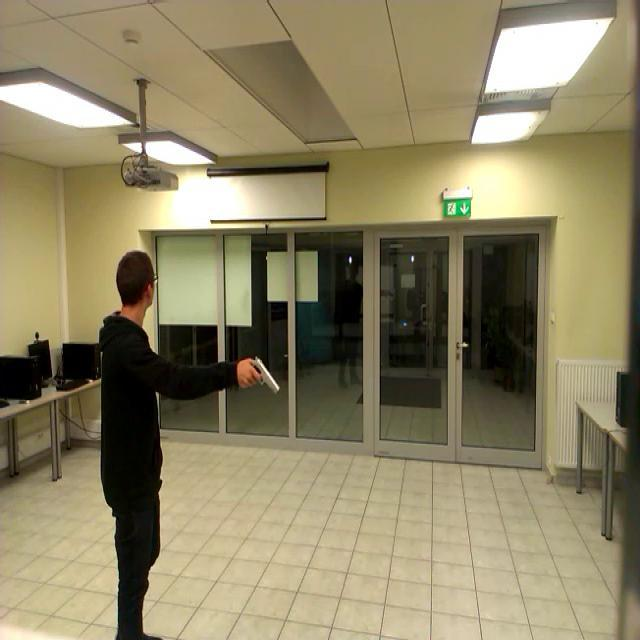Gun: (245, 355, 279, 393)
